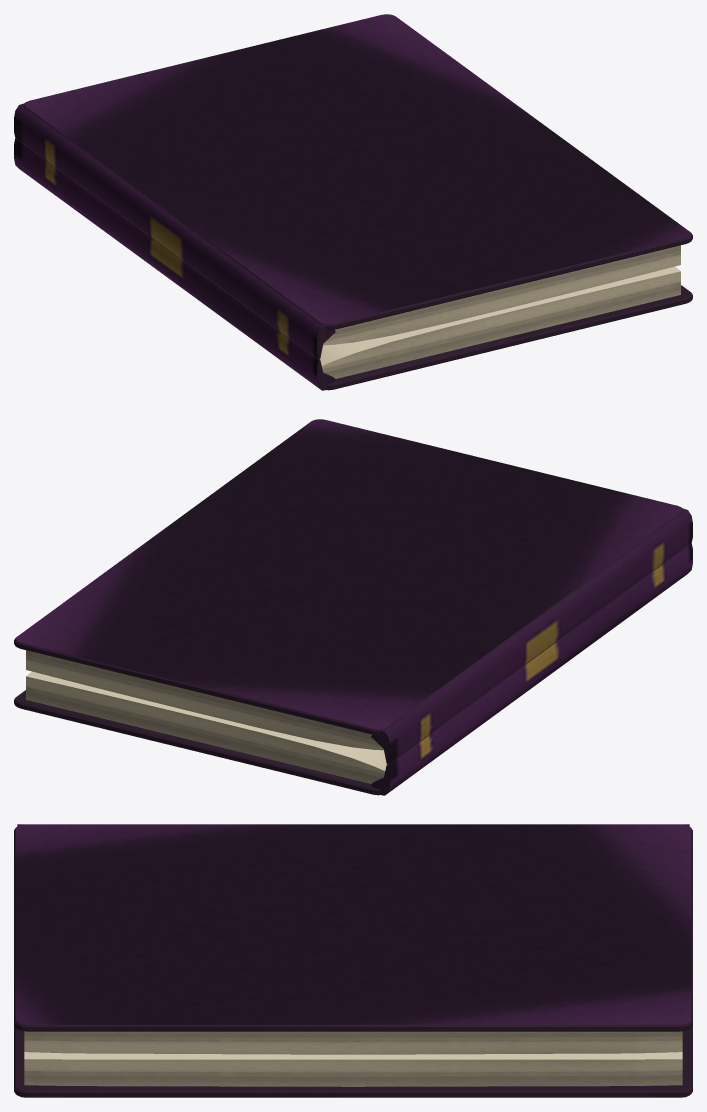
File: book-v1.glb
3 renders of one model, top to bottom at view 1: azimuth 30°, elevation 25°; view 2: azimuth 150°, elevation 25°; view 3: azimuth 270°, elevation 25°, orthographic. The views are drawn at different scales.
Parts seen in each view (by area): view 1: libro_izquierda, libro_derecha; view 2: libro_izquierda, libro_derecha; view 3: libro_izquierda, libro_derecha.
Part boxes in pixels (<box>): libro_izquierda: <box>14,14,692,359</box>; libro_derecha: <box>14,138,692,390</box>; libro_izquierda: <box>14,419,692,764</box>; libro_derecha: <box>14,543,692,795</box>; libro_izquierda: <box>14,824,692,1054</box>; libro_derecha: <box>14,1026,692,1097</box>.
Size of the model in its own units: 0.15 by 0.025 by 0.21.
Materials: 1 (1 with a texture image).
